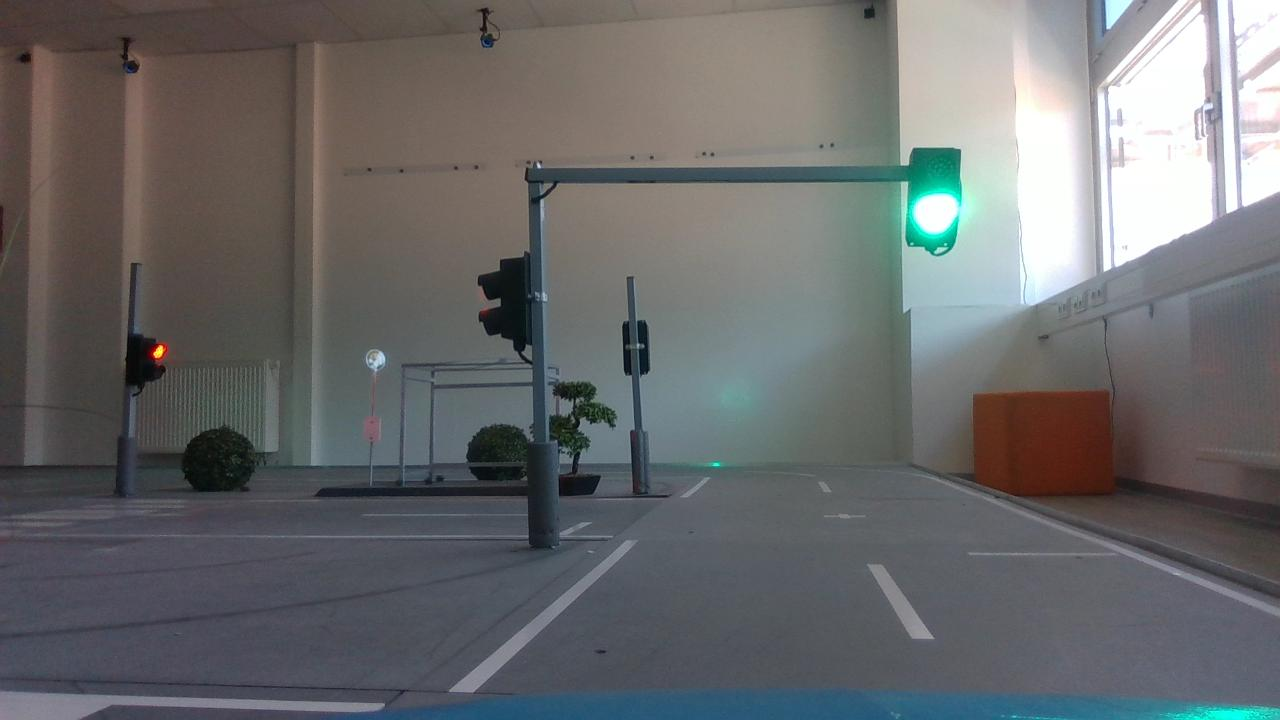traffic_light_green: (894, 132, 969, 268)
